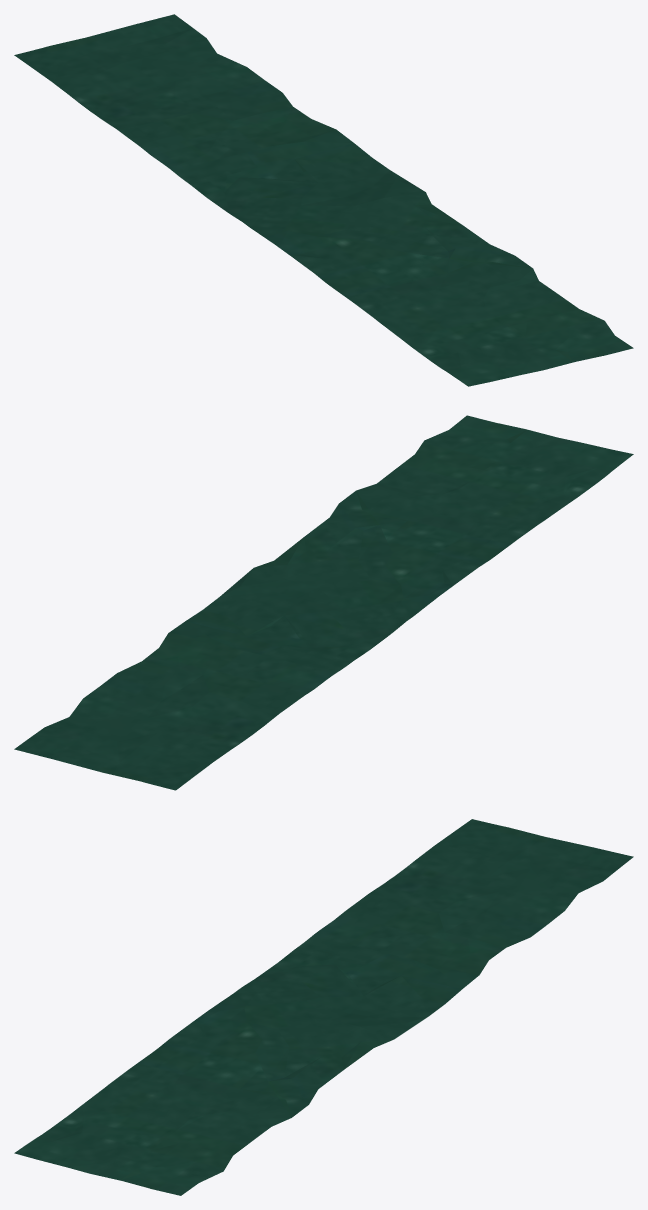
The picture shows the model from 3 angles, top to bottom: view 1: azimuth 30°, elevation 25°; view 2: azimuth 150°, elevation 25°; view 3: azimuth 330°, elevation 25°; orthographic projection.
Bounding box in the file's own units: 22.85 × 0.574 × 104.
Materials: 1 (1 with a texture image).
